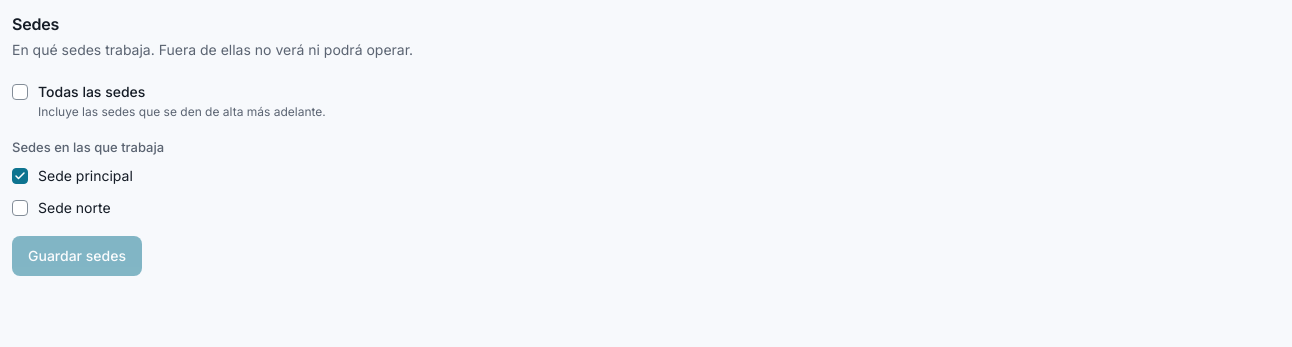
Test: StaffLocationsCard (DX-089) › sin «Todas» ni ninguna sede marcada no envía y lo explica junto al botón
Click the checkbox labelled "Sede principal" at (20, 176), box 12,168 -> 28,184
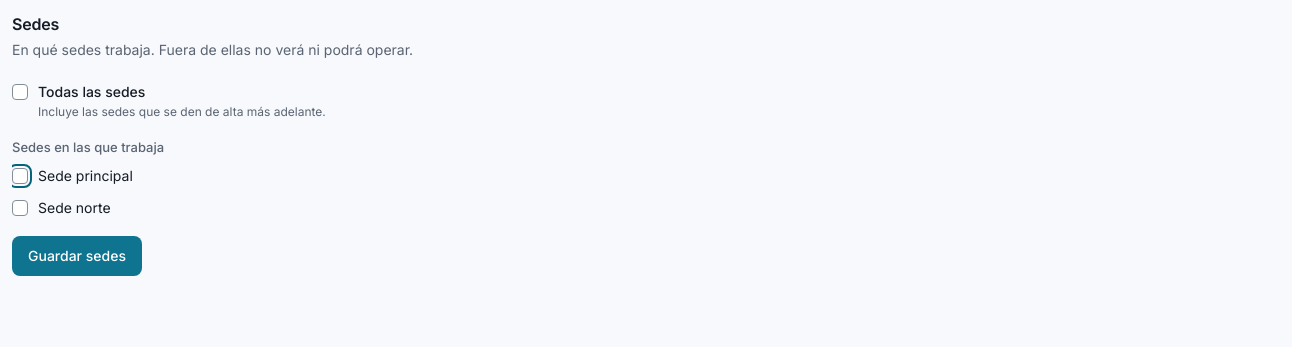
Click the button "Guardar sedes" at (77, 256), box 12,236 -> 142,276
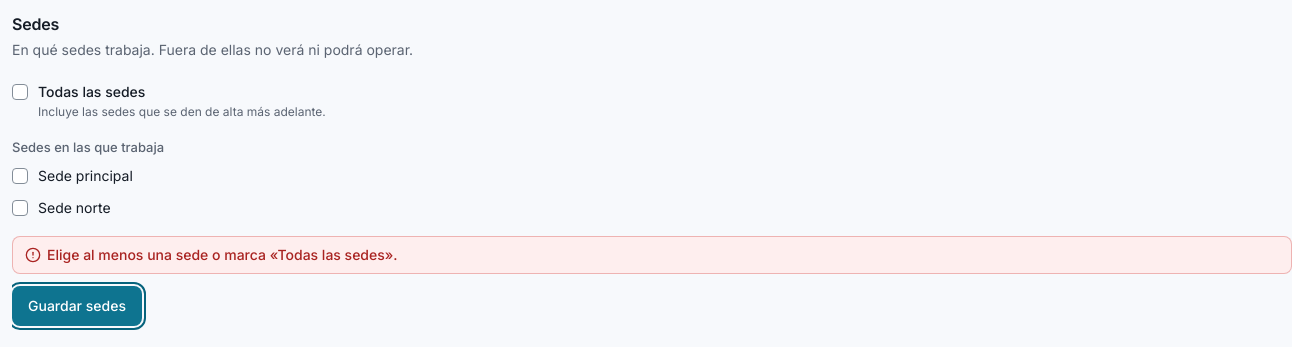
Check: the message reads "Elige al menos una sede o marca «Todas las sedes».", box 47,246 -> 398,263
